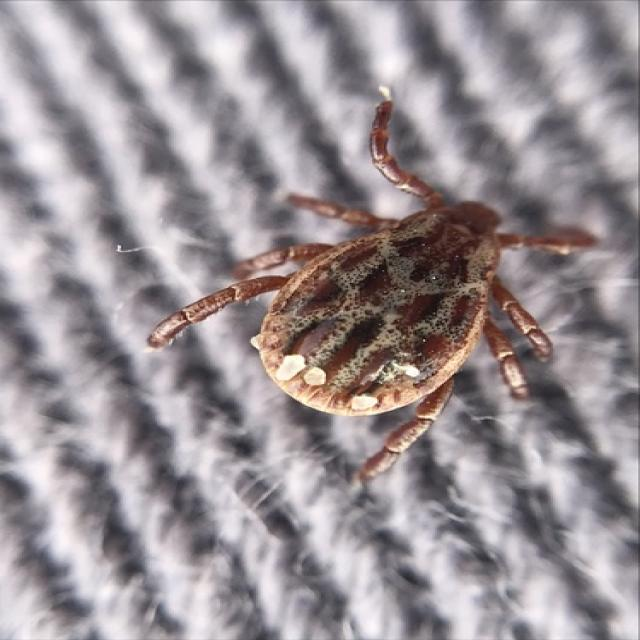Dermacentor Reticulatus-M: (147, 99, 596, 484)
